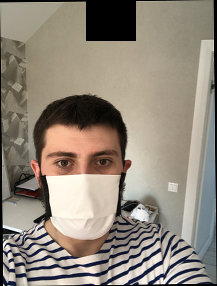with_mask: (38, 141, 125, 241)
